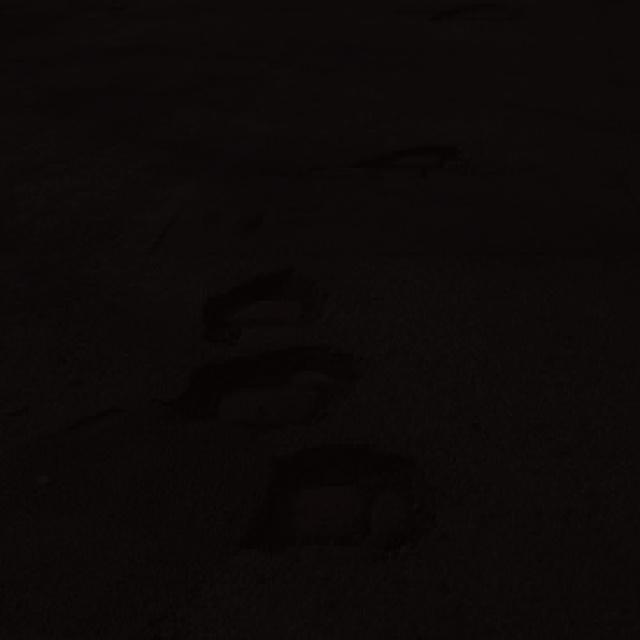Pothole: (248, 428, 434, 566), (163, 347, 366, 445), (196, 259, 342, 352), (344, 129, 469, 189), (438, 1, 521, 28)
